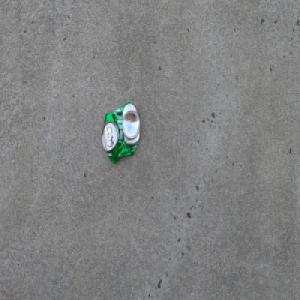SodaCan: (101, 101, 140, 164)
